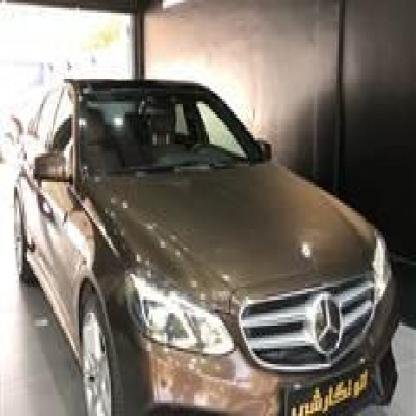Car: (2, 70, 402, 416)
